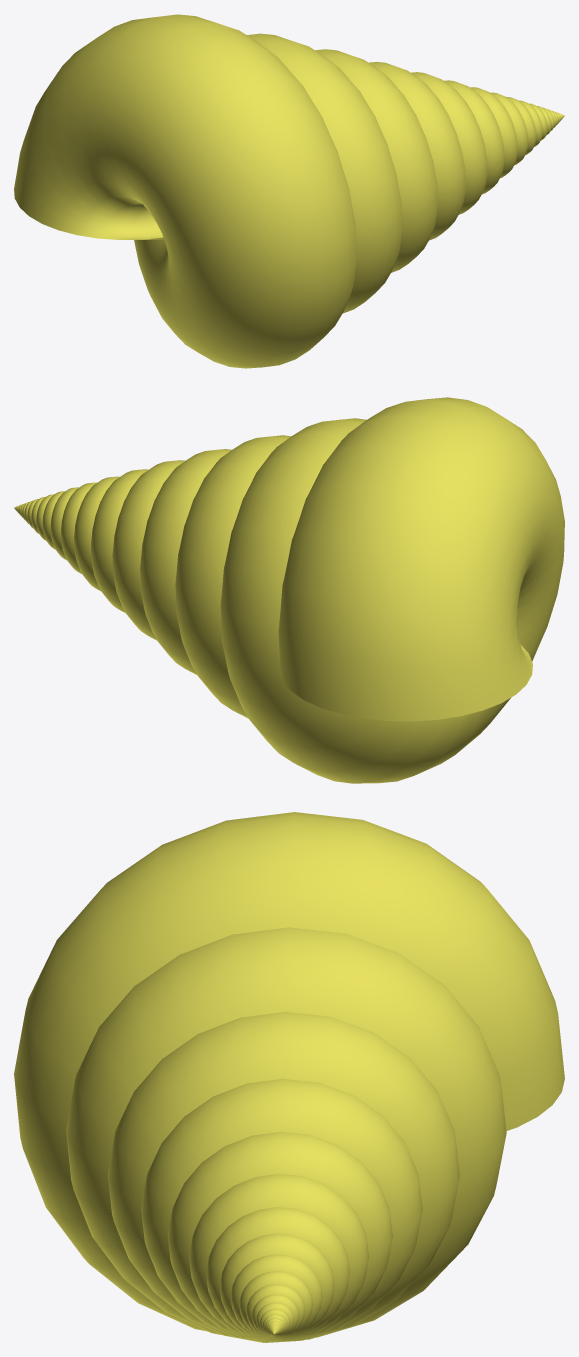
The model's file is the first snail.fbx.
The picture shows the model from 3 angles, top to bottom: view 1: azimuth 30°, elevation 25°; view 2: azimuth 150°, elevation 25°; view 3: azimuth 270°, elevation 25°; orthographic projection. The views are drawn at different scales.
Parts seen in each view (by area): view 1: the first snail; view 2: the first snail; view 3: the first snail.
Boxes of the visible parts, x1,y1,x2,y2 form: the first snail: (14, 14, 564, 368); the first snail: (14, 397, 564, 783); the first snail: (14, 812, 564, 1342).
Bounding box in the file's own units: 500 × 321 × 339.
